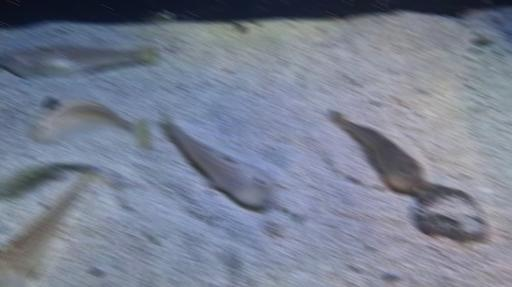Fish: (0, 167, 93, 286), (164, 113, 278, 207), (332, 112, 427, 193), (28, 97, 150, 149), (0, 44, 157, 78)
